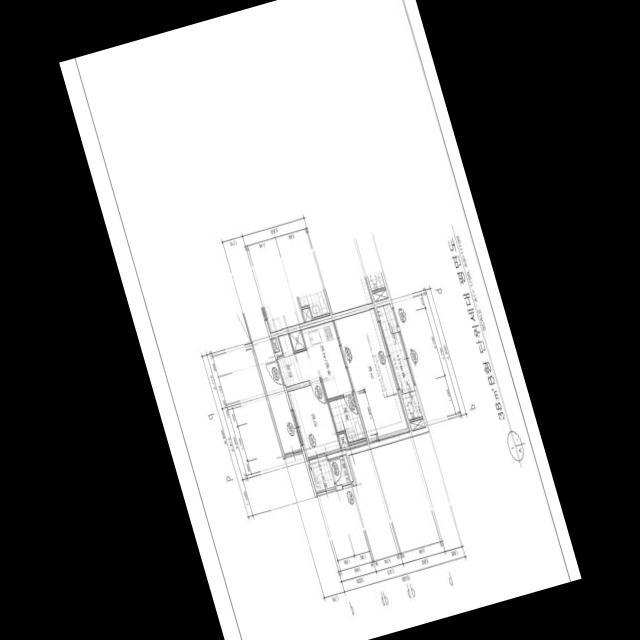background: (59, 0, 581, 640)
space_balconi: (376, 303, 422, 419), (308, 458, 334, 491)
space_bedroom: (287, 381, 340, 459)
space_front: (277, 333, 302, 386)
space_kitchen: (294, 320, 352, 398)
space_living_room: (334, 307, 409, 442)
space_other: (329, 454, 353, 485), (289, 329, 305, 350), (337, 432, 349, 449), (410, 418, 425, 430), (271, 337, 279, 351)
space_toilet: (328, 394, 365, 442)
